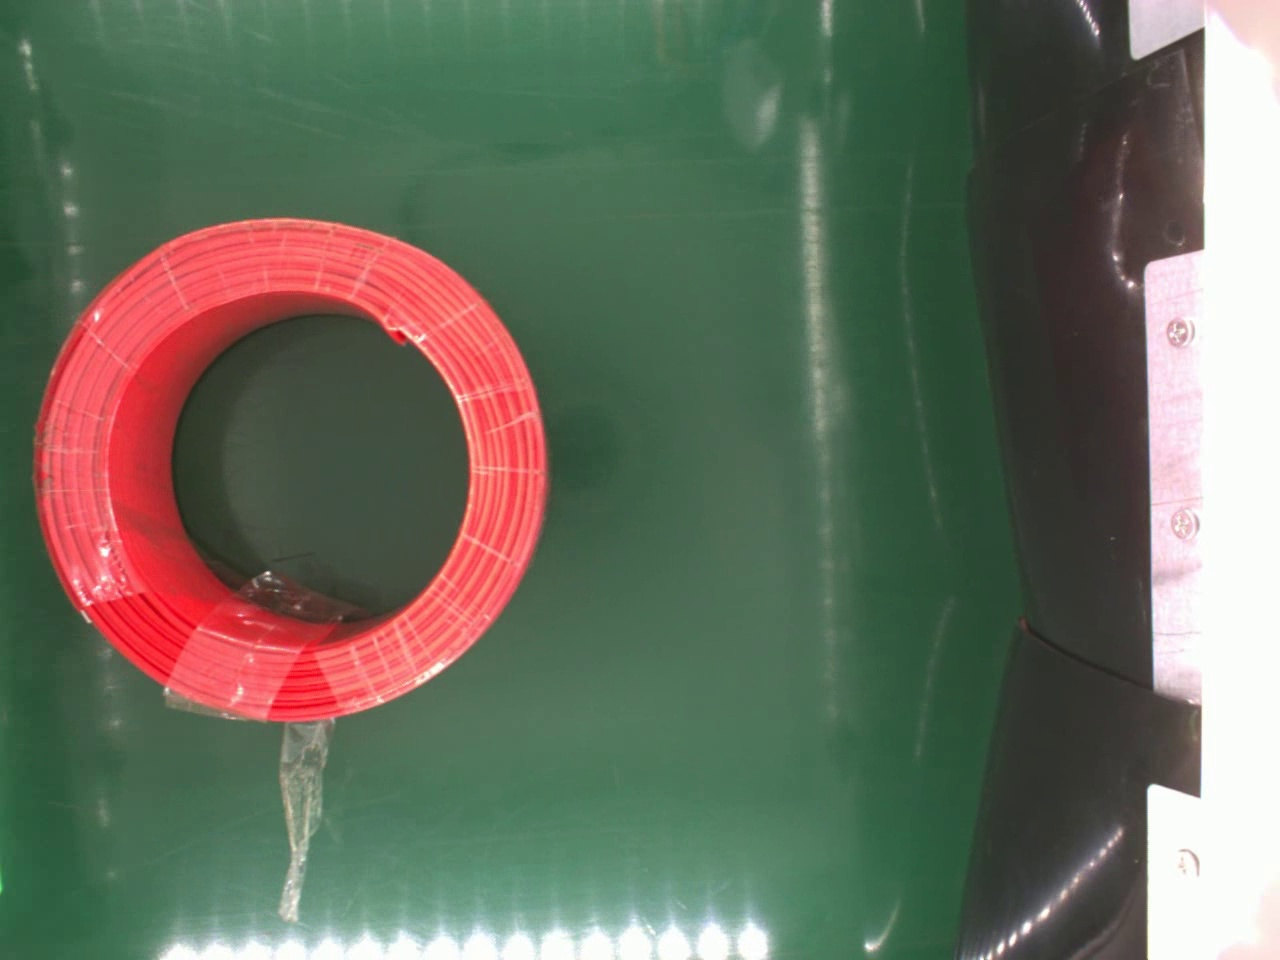red: (33, 215, 551, 726)
